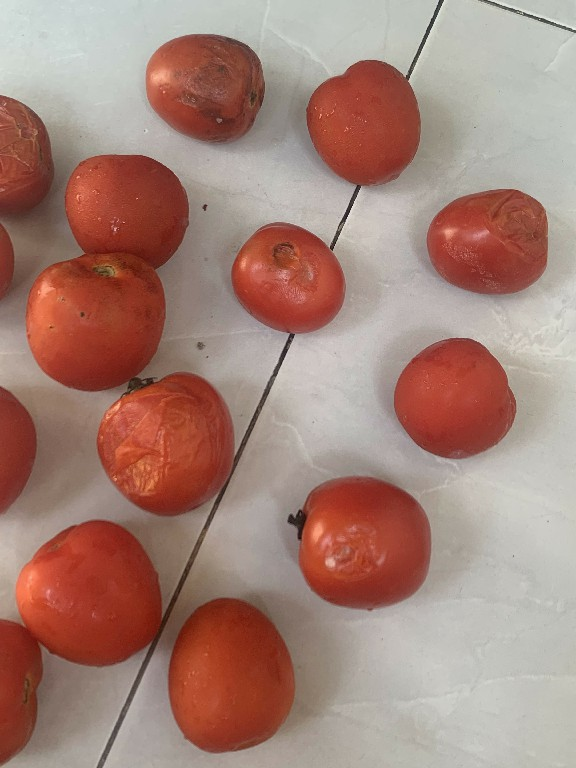NG: (290, 467, 439, 620), (22, 253, 182, 388), (97, 373, 244, 519), (140, 26, 274, 150), (227, 216, 348, 338), (417, 188, 551, 298), (0, 75, 65, 213)
OK: (11, 513, 166, 662), (170, 589, 299, 762), (392, 330, 524, 464), (66, 148, 195, 272), (306, 54, 423, 188)
